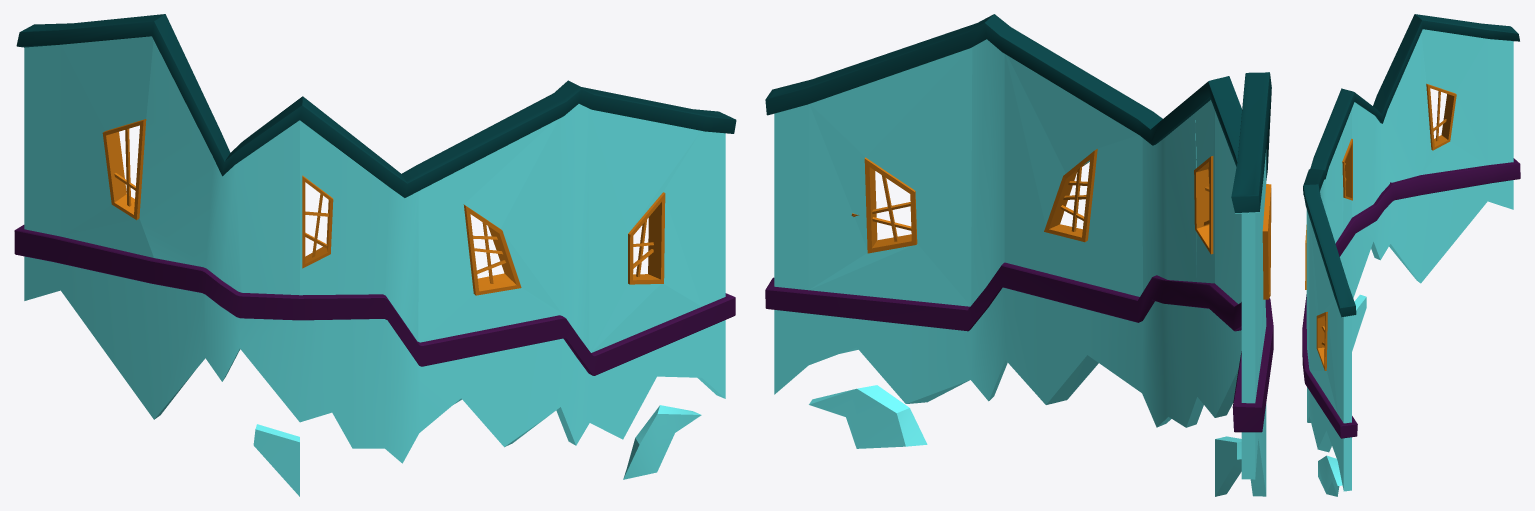
Rendered from Corridor_ScannerPlatforming_1.FBX.
3 renders of one model, left to right at view 1: azimuth 30°, elevation 25°; view 2: azimuth 150°, elevation 25°; view 3: azimuth 270°, elevation 25°, orthographic. The views are drawn at different scales.
Parts seen in each view (by area): view 1: Box002; view 2: Box002; view 3: Box002.
Boxes of the visible parts, x1,y1,x2,y2 form: Box002: (14,14,736,496); Box002: (765,14,1273,496); Box002: (1302,14,1520,496).
Bounding box in the file's own units: 1900 × 1561 × 912.
